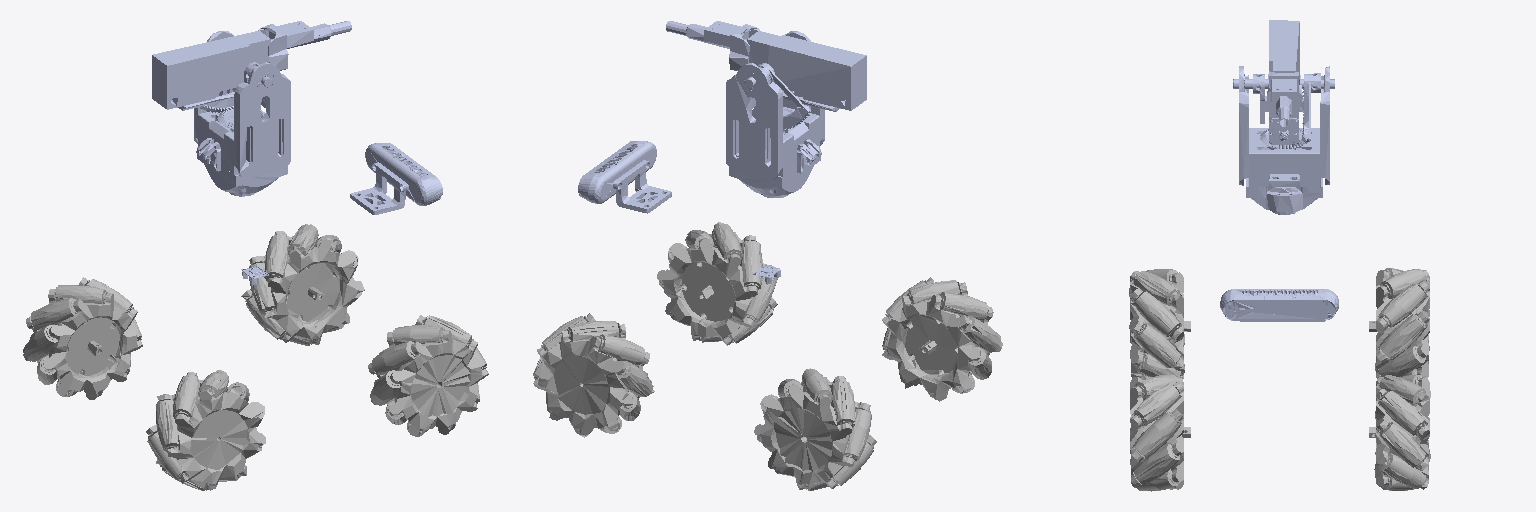
The robot description file, URDF, robot "urdf_export":
<?xml version="1.0" encoding="utf-8"?>
<!-- This URDF was automatically created by SolidWorks to URDF Exporter! Originally created by Stephen Brawner (brawner@gmail.com) 
     Commit Version: 1.6.0-4-g7f85cfe  Build Version: 1.6.7995.38578
     For more information, please see http://wiki.ros.org/sw_urdf_exporter -->
<robot name="urdf_export">
  <!-- Ground projection of base_link: same orientation, z = -0.08527 m in base_frame -->
  <link name="base_footprint"/>
  <joint name="base_footprint_joint" type="fixed">
    <origin xyz="0 0 0.08527" rpy="0 0 0"/>
    <parent link="base_footprint"/>
    <child link="base_link"/>
  </joint>
  <link name="base_link">
    <inertial>
      <origin xyz="0.0129111405613619 0.00100406093605498 0.0307687949064424" rpy="0 0 0"/>
      <mass value="0.964680037794373"/>
      <inertia ixx="0.00133297495789473" ixy="5.72601593845763E-07" ixz="1.40084681271861E-06" iyy="0.00097076129549354" iyz="5.65008391640129E-06" izz="0.00215021967835251"/>
    </inertial>
    <visual>
      <origin xyz="0 0 0" rpy="0 0 0"/>
      <geometry>
        <mesh filename="package://urdf_export/meshes/base_link.STL"/>
      </geometry>
      <material name="">
        <color rgba="0.792156862745098 0.819607843137255 0.933333333333333 1"/>
      </material>
    </visual>
    <collision>
      <origin xyz="0.02349997 -0.000454215 0.04499632" rpy="0 0 0"/>
      <geometry>
        <!-- AABB of raw base_link mesh — sim-friendly vs 1.5M-tris mesh -->
        <box size="0.36885898 0.27004889 0.18840736"/>
      </geometry>
    </collision>
  </link>
  <link name="FR_wheel_link">
    <inertial>
      <origin xyz="-1.12238911775808E-08 2.49019151743468E-07 0.000839836772267288" rpy="0 0 0"/>
      <mass value="0.221044278947542"/>
      <inertia ixx="7.35812074462489E-05" ixy="-3.04647444834031E-10" ixz="-3.32175522625859E-10" iyy="7.35805110353754E-05" iyz="-7.01979223994559E-10" izz="9.09314003973903E-05"/>
    </inertial>
    <visual>
      <origin xyz="0 0 0" rpy="0 0 0"/>
      <geometry>
        <mesh filename="package://urdf_export/meshes/FR_wheel_link.STL"/>
      </geometry>
      <material name="">
        <color rgba="0.752941176470588 0.752941176470588 0.752941176470588 1"/>
      </material>
    </visual>
    <collision>
      <origin xyz="0 0 0" rpy="0 0 0"/>
      <geometry>
        <mesh filename="package://urdf_export/meshes/FR_wheel_link_collision.STL"/>
      </geometry>
    </collision>
  </link>
  <joint name="FR_wheel_joint" type="continuous">
    <origin xyz="0.105049783522494 -0.102416310484091 -0.0368930627602887" rpy="1.57699275697367 0 0"/>
    <parent link="base_link"/>
    <child link="FR_wheel_link"/>
    <axis xyz="0 0 1"/>
    <limit effort="0.5" velocity="20"/>
  </joint>
  <link name="mpu_link">
    <inertial>
      <origin xyz="-0.00179684618855307 -0.00021245760212546 -0.00140436947697253" rpy="0 0 0"/>
      <mass value="0.000500550341105836"/>
      <inertia ixx="1.01962053425485E-08" ixy="-3.69311898031353E-13" ixz="3.15973298478094E-13" iyy="5.974455020592E-09" iyz="-3.15694723183278E-13" izz="1.52147576541565E-08"/>
    </inertial>
    <visual>
      <origin xyz="0 0 0" rpy="0 0 0"/>
      <geometry>
        <mesh filename="package://urdf_export/meshes/mpu_link.STL"/>
      </geometry>
      <material name="">
        <color rgba="0.792156862745098 0.819607843137255 0.933333333333333 1"/>
      </material>
    </visual>
    <collision>
      <origin xyz="0 0 0" rpy="0 0 0"/>
      <geometry>
        <mesh filename="package://urdf_export/meshes/mpu_link.STL"/>
      </geometry>
    </collision>
  </link>
  <joint name="mpu_joint" type="fixed">
    <origin xyz="-0.000156292815823376 0.000178244779094172 0.0412509999999999" rpy="0 0 -0.000970212895559639"/>
    <parent link="base_link"/>
    <child link="mpu_link"/>
    <axis xyz="0 0 0"/>
  </joint>
  <link name="pan_link">
    <inertial>
      <origin xyz="-0.00127584102030208 -8.16441213563612E-06 0.052175043329052" rpy="0 0 0"/>
      <mass value="0.140200821028311"/>
      <inertia ixx="6.74412749594553E-05" ixy="-1.90196775465855E-09" ixz="-5.52217020142377E-07" iyy="6.67878796417588E-05" iyz="2.20369051138528E-09" izz="5.87083243754226E-05"/>
    </inertial>
    <visual>
      <origin xyz="0 0 0" rpy="0 0 0"/>
      <geometry>
        <mesh filename="package://urdf_export/meshes/pan_link.STL"/>
      </geometry>
      <material name="">
        <color rgba="0.792156862745098 0.819607843137255 0.933333333333333 1"/>
      </material>
    </visual>
    <collision>
      <origin xyz="0 0 0" rpy="0 0 0"/>
      <geometry>
        <mesh filename="package://urdf_export/meshes/pan_link.STL"/>
      </geometry>
    </collision>
  </link>
  <joint name="pan_joint" type="revolute">
    <origin xyz="-0.00979023033307008 0.00389949475552409 0.116" rpy="0 0 -0.00248547173161781"/>
    <parent link="base_link"/>
    <child link="pan_link"/>
    <axis xyz="0 0 1"/>
    <limit lower="-3.14159265" upper="3.14159265" effort="0.4" velocity="29.45"/>
  </joint>
  <link name="tilt_link">
    <inertial>
      <origin xyz="-0.0129030483909279 0.0163785059670626 0.00123370765429931" rpy="0 0 0"/>
      <mass value="0.118309563278742"/>
      <inertia ixx="7.6267548207575E-05" ixy="3.40265654770505E-05" ixz="1.02395464364245E-07" iyy="4.05612136929341E-05" iyz="5.32102370193482E-08" izz="0.000105422416916065"/>
    </inertial>
    <visual>
      <origin xyz="0 0 0" rpy="0 0 0"/>
      <geometry>
        <mesh filename="package://urdf_export/meshes/tilt_link.STL"/>
      </geometry>
      <material name="">
        <color rgba="0.792156862745098 0.819607843137255 0.933333333333333 1"/>
      </material>
    </visual>
    <collision>
      <origin xyz="0 0 0" rpy="0 0 0"/>
      <geometry>
        <mesh filename="package://urdf_export/meshes/tilt_link.STL"/>
      </geometry>
    </collision>
  </link>
  <joint name="tilt_joint" type="revolute">
    <origin xyz="0 -0.000259846402898389 0.115" rpy="-1.5707963267949 0.930751592772579 0"/>
    <parent link="pan_link"/>
    <child link="tilt_link"/>
    <axis xyz="0 0 -1"/>
    <limit lower="-0.78539816" upper="0.78539816" effort="1.0" velocity="11.78"/>
  </joint>
  <link name="CSI_link">
    <inertial>
      <origin xyz="-0.369444799934793 -0.361802819221584 -0.0614120701482083" rpy="0 0 0"/>
      <mass value="0"/>
      <inertia ixx="0" ixy="0" ixz="0" iyy="0" iyz="0" izz="0"/>
    </inertial>
    <visual>
      <origin xyz="0 0 0" rpy="0 0 0"/>
      <geometry>
        <mesh filename="package://urdf_export/meshes/CSI_link.STL"/>
      </geometry>
      <material name="">
        <color rgba="0.792156862745098 0.819607843137255 0.933333333333333 1"/>
      </material>
    </visual>
    <collision>
      <origin xyz="0 0 0" rpy="0 0 0"/>
      <geometry>
        <mesh filename="package://urdf_export/meshes/CSI_link.STL"/>
      </geometry>
    </collision>
  </link>
  <joint name="CSI_joint" type="fixed">
    <origin xyz="0.0445922904171207 0 0" rpy="0.930751592772577 1.5707963267949 0"/>
    <parent link="tilt_link"/>
    <child link="CSI_link"/>
    <axis xyz="0 0 0"/>
  </joint>
  <link name="RL_wheel_link">
    <inertial>
      <origin xyz="1.50468708132179E-07 -1.73325109042999E-07 0.000839836382504899" rpy="0 0 0"/>
      <mass value="0.221044716131286"/>
      <inertia ixx="7.35816845817064E-05" ixy="4.67050451048421E-10" ixz="-2.81284409122352E-10" iyy="7.35807955937862E-05" iyz="7.73687726346773E-10" izz="9.09321311413602E-05"/>
    </inertial>
    <visual>
      <origin xyz="0 0 0" rpy="0 0 0"/>
      <geometry>
        <mesh filename="package://urdf_export/meshes/RL_wheel_link.STL"/>
      </geometry>
      <material name="">
        <color rgba="0.752941176470588 0.752941176470588 0.752941176470588 1"/>
      </material>
    </visual>
    <collision>
      <origin xyz="0 0 0" rpy="0 0 0"/>
      <geometry>
        <mesh filename="package://urdf_export/meshes/RL_wheel_link_collision.STL"/>
      </geometry>
    </collision>
  </link>
  <joint name="RL_joint" type="continuous">
    <origin xyz="-0.104949567835769 0.102416380051379 -0.0368930627599853" rpy="1.57699275697366 0 -3.14159265357483"/>
    <parent link="base_link"/>
    <child link="RL_wheel_link"/>
    <axis xyz="0 0 -1"/>
    <limit effort="0.5" velocity="20"/>
  </joint>
  <link name="FL_wheel_link">
    <inertial>
      <origin xyz="5.0611250496102E-08 -1.35569615533626E-08 0.00087400676158117" rpy="0 0 0"/>
      <mass value="0.206630560047768"/>
      <inertia ixx="6.14871666411918E-05" ixy="2.72460009602584E-10" ixz="2.92188820036095E-10" iyy="6.14879901168965E-05" iyz="-1.81243265140584E-10" izz="7.45384537508005E-05"/>
    </inertial>
    <visual>
      <origin xyz="0 0 0" rpy="0 0 0"/>
      <geometry>
        <mesh filename="package://urdf_export/meshes/FL_wheel_link.STL"/>
      </geometry>
      <material name="">
        <color rgba="0.752941176470588 0.752941176470588 0.752941176470588 1"/>
      </material>
    </visual>
    <collision>
      <origin xyz="0 0 0" rpy="0 0 0"/>
      <geometry>
        <mesh filename="package://urdf_export/meshes/FL_wheel_link_collision.STL"/>
      </geometry>
    </collision>
  </link>
  <joint name="FL_joint" type="continuous">
    <origin xyz="0.105049783519428 0.10241636001417 -0.0368962968951229" rpy="1.57699275697366 0 -3.14159265357483"/>
    <parent link="base_link"/>
    <child link="FL_wheel_link"/>
    <axis xyz="0 0 1"/>
    <limit effort="0.5" velocity="20"/>
  </joint>
  <link name="RR_wheel_link">
    <inertial>
      <origin xyz="-1.48121460236128E-09 -5.3244697539867E-08 0.000873995559190377" rpy="0 0 0"/>
      <mass value="0.206630729812606"/>
      <inertia ixx="6.14879817049835E-05" ixy="3.31220272775818E-10" ixz="4.94322408002252E-12" iyy="6.14873363559276E-05" iyz="-3.45028628919068E-10" izz="7.45385215935962E-05"/>
    </inertial>
    <visual>
      <origin xyz="0 0 0" rpy="0 0 0"/>
      <geometry>
        <mesh filename="package://urdf_export/meshes/RR_wheel_link.STL"/>
      </geometry>
      <material name="">
        <color rgba="0.752941176470588 0.752941176470588 0.752941176470588 1"/>
      </material>
    </visual>
    <collision>
      <origin xyz="0 0 0" rpy="0 0 0"/>
      <geometry>
        <mesh filename="package://urdf_export/meshes/RR_wheel_link_collision.STL"/>
      </geometry>
    </collision>
  </link>
  <joint name="RR_joint" type="continuous">
    <origin xyz="-0.10494956783301 -0.102416290446887 -0.0368962968951215" rpy="1.57699275697367 0 0"/>
    <parent link="base_link"/>
    <child link="RR_wheel_link"/>
    <axis xyz="0 0 1"/>
    <limit effort="0.5" velocity="20"/>
  </joint>
  <link name="realsense_link">
    <inertial>
      <origin xyz="-2.0560798869862E-05 0.00195479814861865 -0.0132070875590155" rpy="0 0 0"/>
      <mass value="0.048022330463154"/>
      <inertia ixx="3.74884598677567E-06" ixy="1.38172854881844E-08" ixz="8.17769524736086E-09" iyy="3.32851319906951E-05" iyz="2.49101447008147E-07" izz="3.36541114052342E-05"/>
    </inertial>
    <visual>
      <origin xyz="0 0 0" rpy="0 0 0"/>
      <geometry>
        <mesh filename="package://urdf_export/meshes/realsense_link.STL"/>
      </geometry>
      <material name="">
        <color rgba="0.792156862745098 0.819607843137255 0.933333333333333 1"/>
      </material>
    </visual>
    <collision>
      <origin xyz="0 0 0" rpy="0 0 0"/>
      <geometry>
        <mesh filename="package://urdf_export/meshes/realsense_link.STL"/>
      </geometry>
    </collision>
  </link>
  <joint name="realsense_joint" type="fixed">
    <origin xyz="0.151649761044997 -0.000319057523601396 0.0978168695060898" rpy="-1.5707963267949 0.00271324763830418 -1.57328179852652"/>
    <parent link="base_link"/>
    <child link="realsense_link"/>
    <axis xyz="0 0 0"/>
  </joint>
</robot>

--- Facts derived from the render (not from the file) ---
Views: 3 orthographic renders of the robot side by side, from view 1: azimuth 30°, elevation 25°; view 2: azimuth 150°, elevation 25°; view 3: azimuth 270°, elevation 25°.
Model urdf_export with 11 links and 10 joints (2 revolute, 4 continuous, 4 fixed), rooted at base_footprint, posed every joint at zero.
Visible links, largest first — view 1: RL_wheel_link, FR_wheel_link, RR_wheel_link, FL_wheel_link, pan_link, tilt_link, realsense_link; view 2: RR_wheel_link, RL_wheel_link, FL_wheel_link, FR_wheel_link, pan_link, tilt_link, realsense_link; view 3: pan_link, FL_wheel_link, FR_wheel_link, RR_wheel_link, RL_wheel_link, tilt_link, realsense_link, CSI_link.
Boxes of the visible links, <box> form: RL_wheel_link: <box>23,277,142,399</box>; FR_wheel_link: <box>368,315,488,436</box>; RR_wheel_link: <box>146,370,265,490</box>; FL_wheel_link: <box>241,224,364,345</box>; pan_link: <box>194,31,290,196</box>; tilt_link: <box>152,21,351,112</box>; realsense_link: <box>350,143,442,214</box>; RR_wheel_link: <box>882,277,1002,401</box>; RL_wheel_link: <box>754,368,876,490</box>; FL_wheel_link: <box>533,313,654,437</box>; FR_wheel_link: <box>657,222,777,345</box>; pan_link: <box>726,31,824,197</box>; tilt_link: <box>666,21,866,129</box>; realsense_link: <box>578,141,671,213</box>; pan_link: <box>1233,66,1334,214</box>; FL_wheel_link: <box>1369,375,1430,490</box>; FR_wheel_link: <box>1130,375,1190,491</box>; RR_wheel_link: <box>1129,269,1190,378</box>; RL_wheel_link: <box>1369,268,1429,378</box>; tilt_link: <box>1253,20,1320,143</box>; realsense_link: <box>1220,289,1338,321</box>; CSI_link: <box>1269,118,1298,144</box>.
Bounding box of the posed robot: 0.3085 × 0.2527 × 0.341 m (x, y, z).
Meshes: 10 distinct files referenced, 9 mesh visuals loaded (9 binary STL); not drawn: 1 (reference not matched to a file when rendering).
